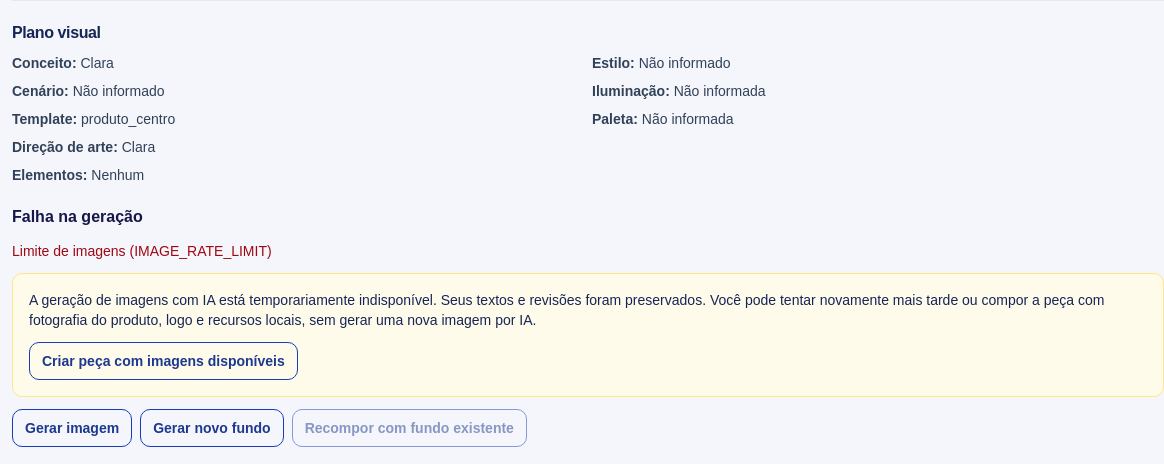
Scenario: oferece composição local após falha visual e aguarda clique explícito
The width and height of the screenshot is (1164, 464).
Click the button "Criar peça com imagens disponíveis": (163, 361) [29, 342, 298, 380]
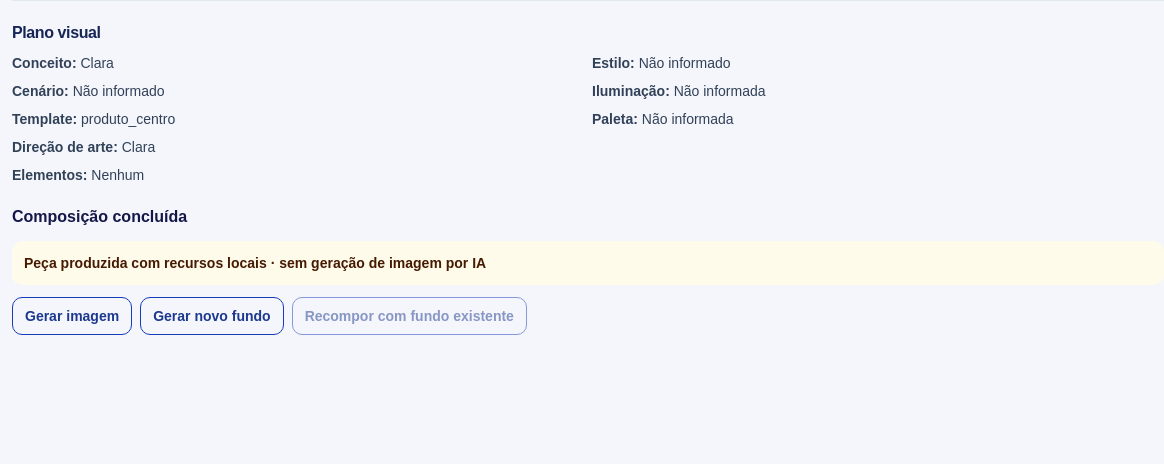
Check: the text "Peça produzida com recursos locais" is shown, box [24, 255, 486, 271]
